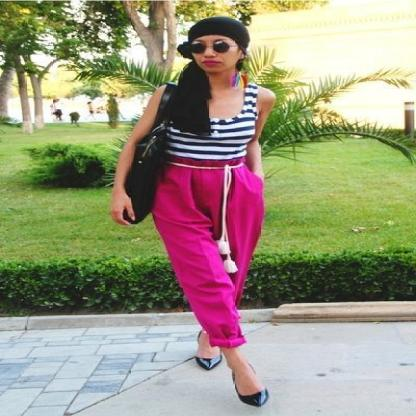bag: (123, 124, 191, 223)
hat: (188, 9, 255, 36)
pants: (152, 158, 263, 348)
shirt: (169, 96, 263, 174)
shoe: (184, 356, 260, 405)
sunglass: (176, 28, 249, 58)
